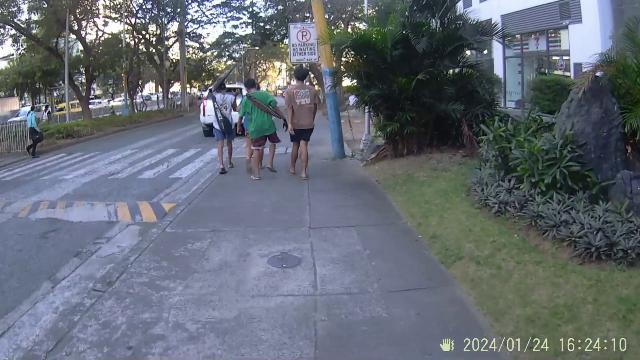street_sign: (290, 24, 318, 64)
utility_post: (316, 12, 344, 160)
